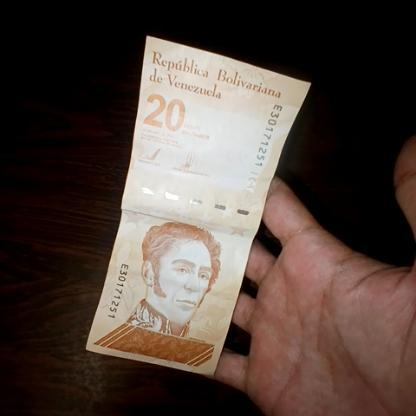twenty-front-vef: (83, 38, 312, 374)
